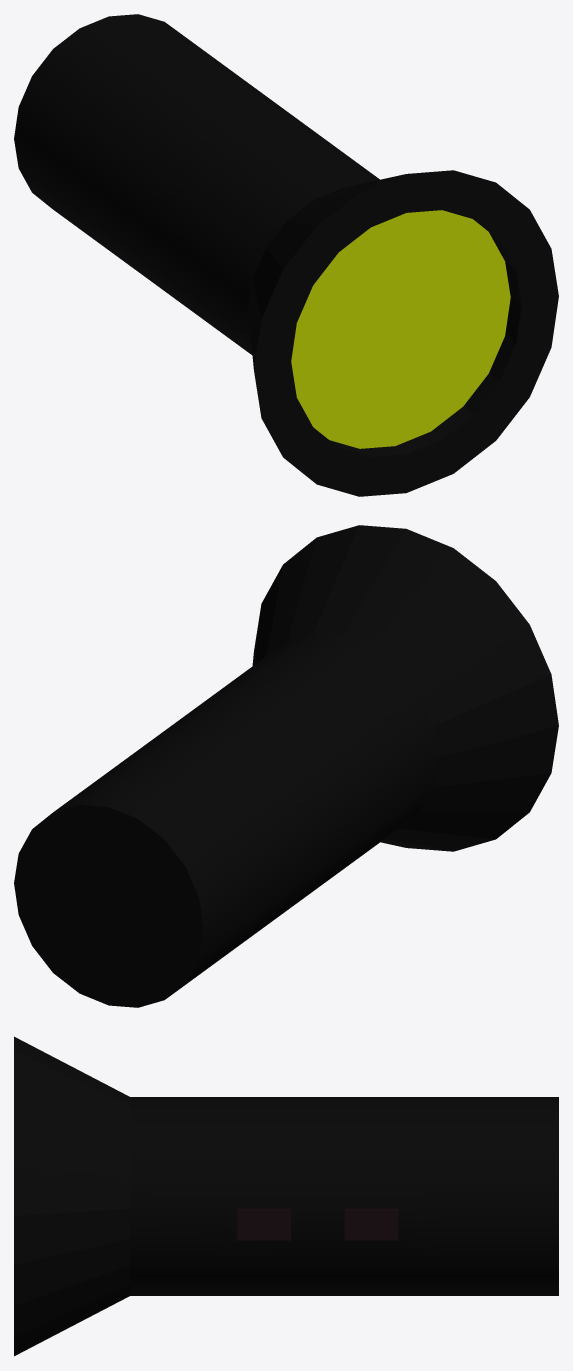
Rendered from FlashLight.fbx.
The picture shows the model from 3 angles, top to bottom: view 1: azimuth 30°, elevation 25°; view 2: azimuth 150°, elevation 25°; view 3: azimuth 270°, elevation 25°; orthographic projection. The views are drawn at different scales.
Visible parts, largest first — view 1: Flashlight; view 2: Flashlight; view 3: Flashlight.
Part boxes in pixels (x1,y1,x2,y2): Flashlight: (14,14,558,496); Flashlight: (14,525,558,1007); Flashlight: (14,1036,558,1356).
Bounding box in the file's own units: 0.2063 × 0.2063 × 0.3486.
